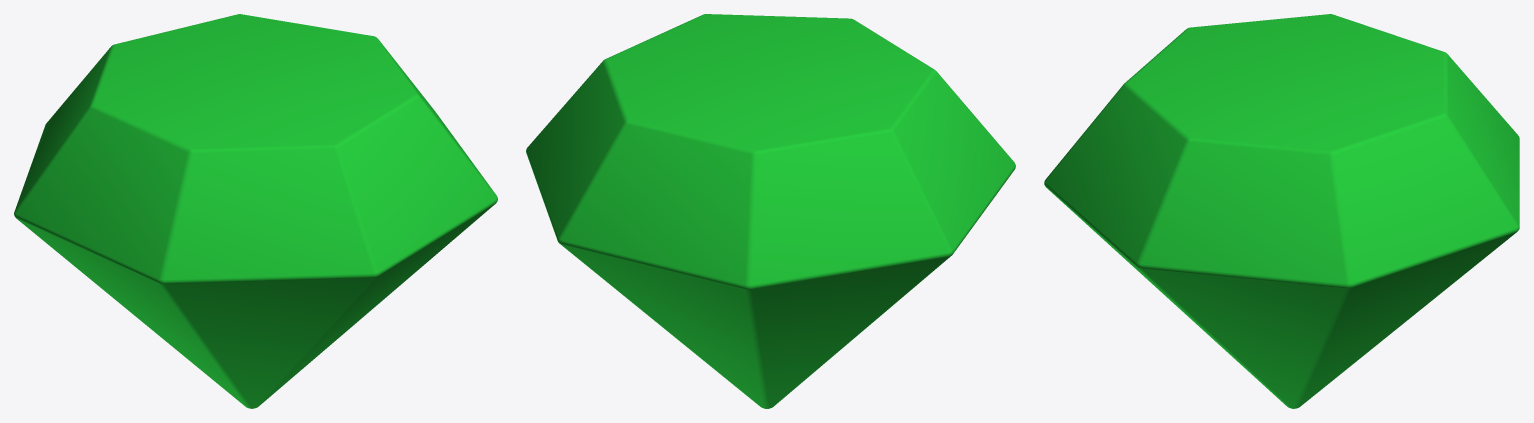
File: emerald.glb
The picture shows the model from 3 angles, left to right: view 1: azimuth 30°, elevation 25°; view 2: azimuth 150°, elevation 25°; view 3: azimuth 270°, elevation 25°; orthographic projection.
Visible parts, largest first — view 1: Emerald; view 2: Emerald; view 3: Emerald.
Boxes of the visible parts, x1,y1,x2,y2 form: Emerald: (14, 14, 497, 408); Emerald: (526, 14, 1015, 408); Emerald: (1044, 14, 1519, 408).
Size of the model in its own units: 0.7426 by 0.5461 by 0.7247.
